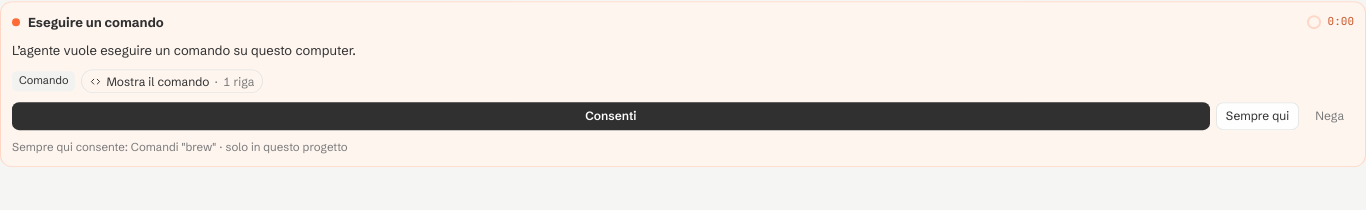
Test: ApprovalCard › reports a request already handled
Click the button "Nega": {"x": 1330, "y": 116} left=1305, top=102, right=1354, bottom=130
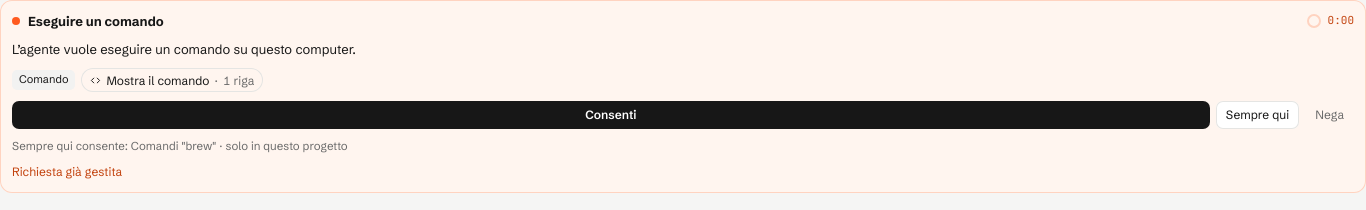
Check: the message reads "Richiesta già gestita", box left=12, top=164, right=122, bottom=179
